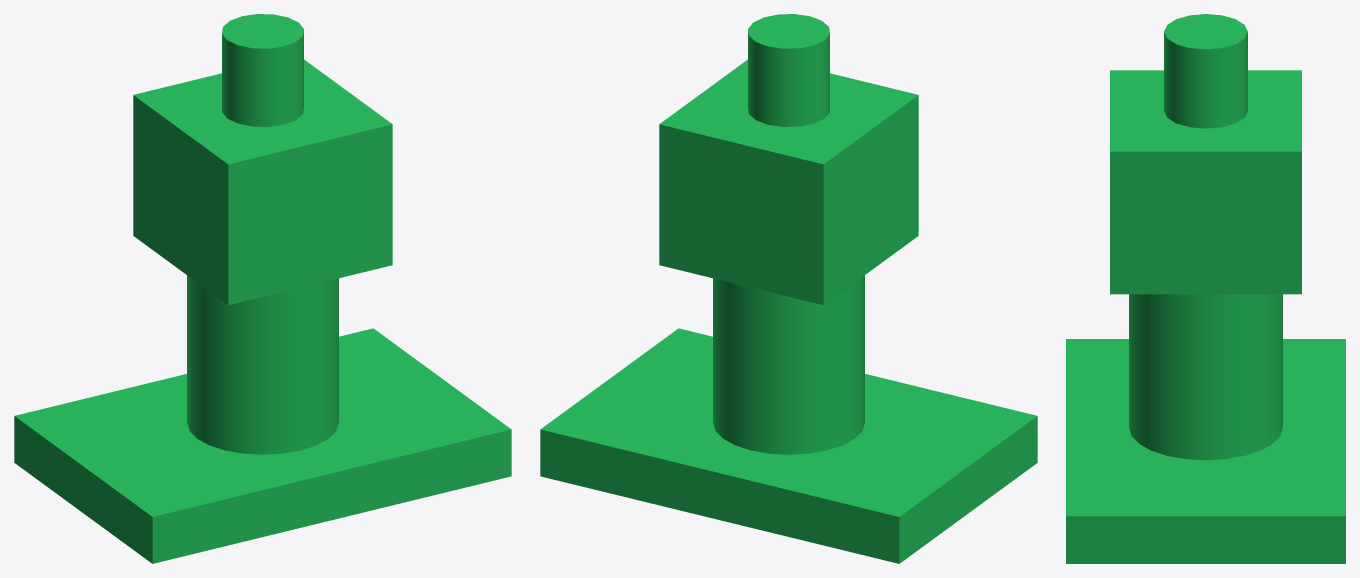
File: cnc-spindle.glb
The picture shows the model from 3 angles, left to right: view 1: azimuth 30°, elevation 25°; view 2: azimuth 150°, elevation 25°; view 3: azimuth 270°, elevation 25°; orthographic projection.
Size of the model in its own units: 120 by 140 by 80.
